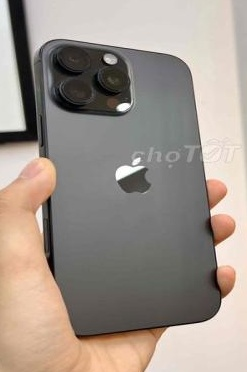scratch: (0, 0, 152, 346)
